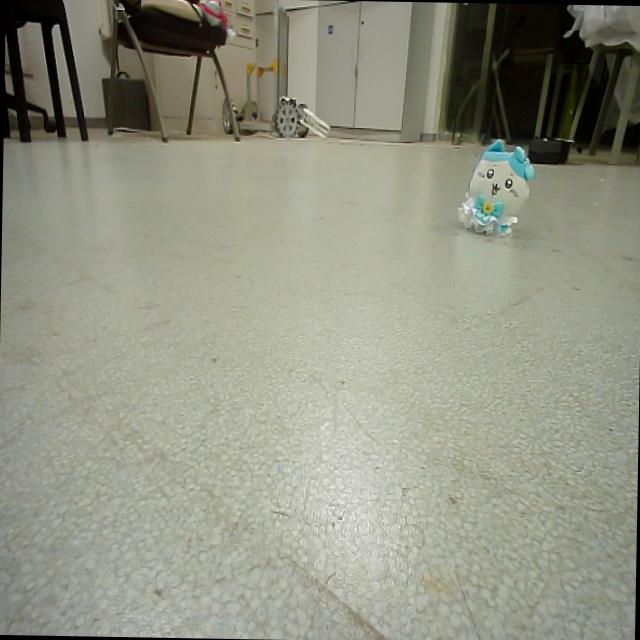xiaoba: (456, 132, 534, 242)
